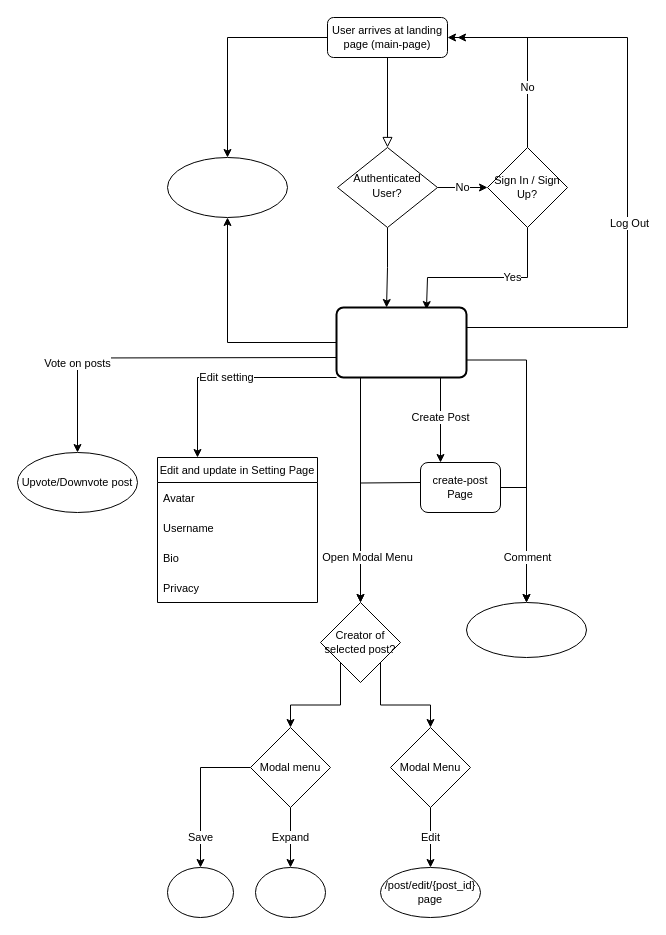
Image size: 666x935. Some labels were removed from this diagram. Here are the shapes that lost their labels. From the top down, the centre of each, then its label:
pixel 227 187: Modal Menu to set filter radius
pixel 401 342: Authenticated User landing page (main-page)
pixel 526 630: Modal to show and delete comment
pixel 200 892: Save post
pixel 290 892: Expand Post
